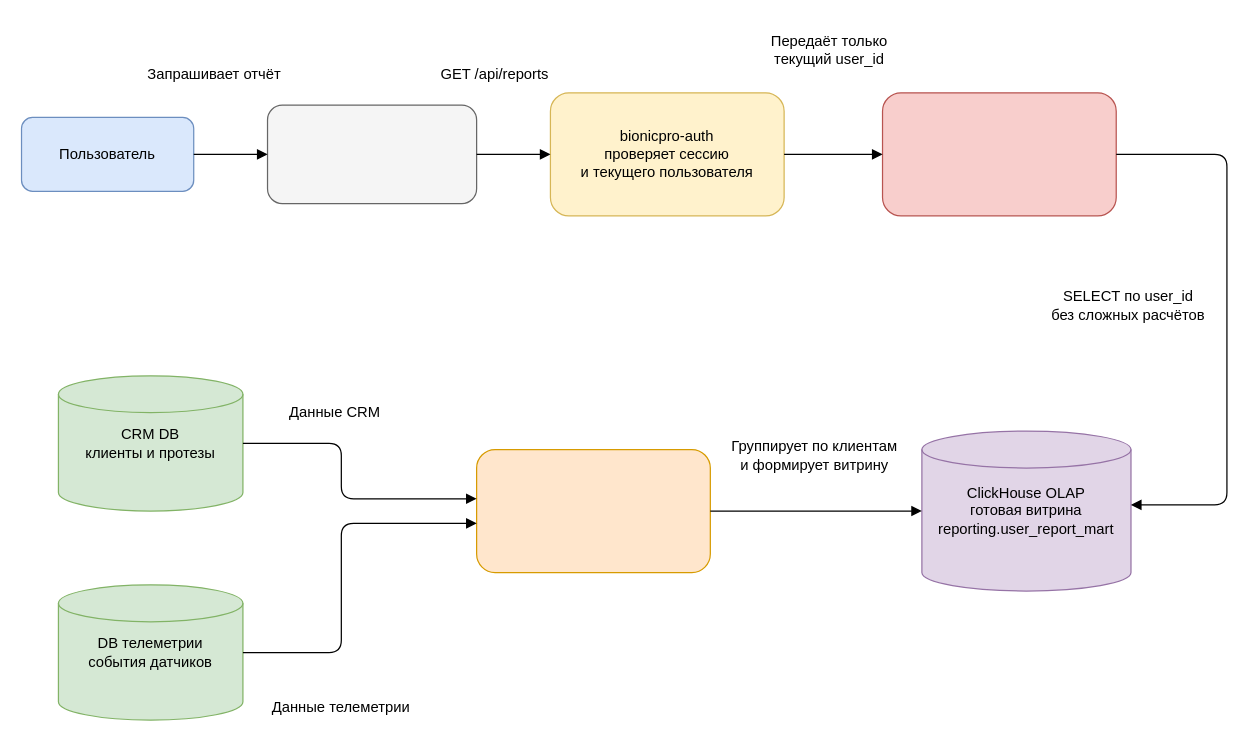
Some shapes in this 1258 by 747 pixel diagram are drawn without their labels. The centre of each missing label's shape, as x and y in pixels:
Airflow DAG ETL по расписанию каждый день 02:00: (x=592, y=510)
Frontend кнопка получения отчёта: (x=371, y=154)
reports-api возвращает отчёт только по своему user_id: (x=998, y=154)
